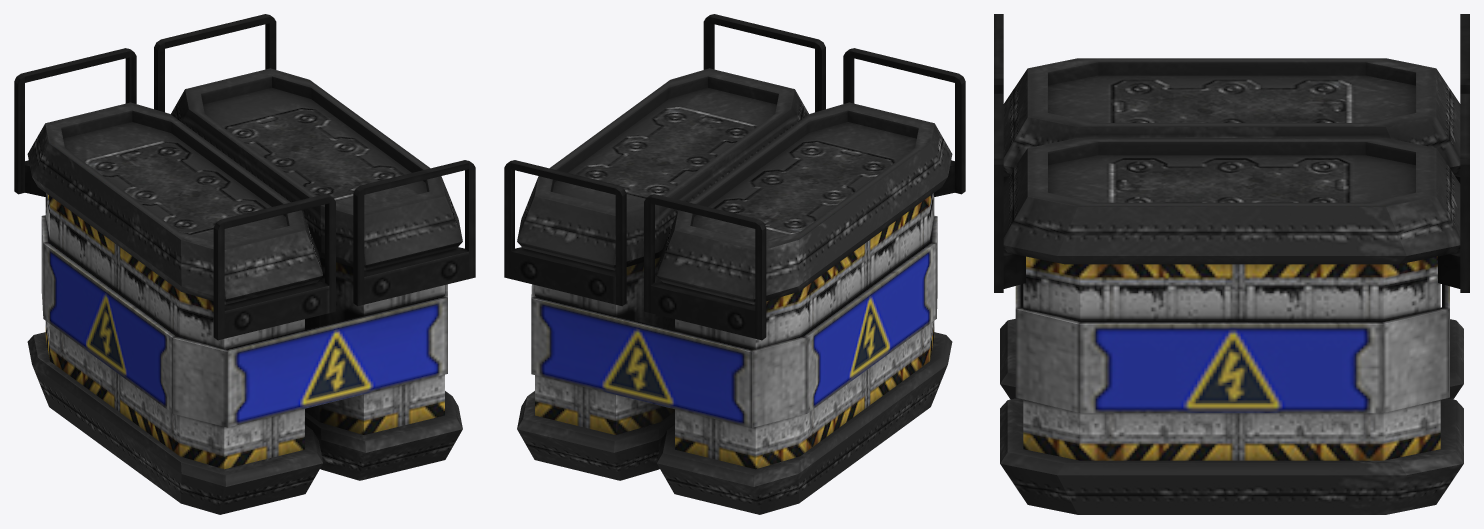
The model's file is battery_pickup1.dae.
3 views of the same model, side by side, from view 1: azimuth 30°, elevation 25°; view 2: azimuth 150°, elevation 25°; view 3: azimuth 270°, elevation 25° (orthographic). The views are drawn at different scales.
Parts seen in each view (by area): view 1: battery1; view 2: battery1; view 3: battery1.
Part boxes in pixels (x1,y1,x2,y2): battery1: [14, 14, 475, 514]; battery1: [504, 14, 965, 514]; battery1: [994, 14, 1469, 514].
Size of the model in its own units: 0.8271 by 1.05 by 0.8709.
1 material, 1 textured.
